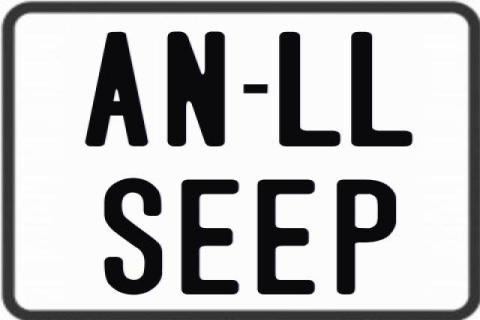A: (83, 31, 150, 148)
E: (178, 178, 237, 294), (257, 178, 316, 294)
L: (351, 32, 417, 148), (279, 30, 342, 148)
N: (166, 31, 224, 151)
P: (335, 178, 395, 294)
S: (102, 176, 163, 294)
